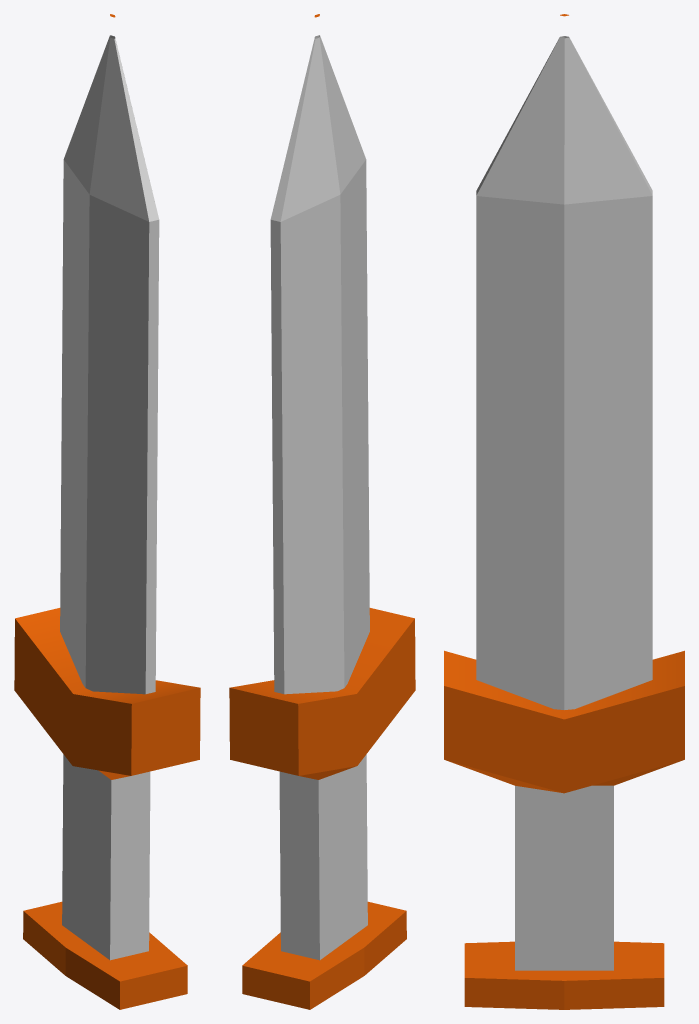
File: sword.fbx
3 views of the same model, side by side, from view 1: azimuth 30°, elevation 25°; view 2: azimuth 150°, elevation 25°; view 3: azimuth 270°, elevation 25° (orthographic). The views are drawn at different scales.
Parts seen in each view (by area): view 1: Cube.002, Cube.001; view 2: Cube.002, Cube.001; view 3: Cube.002, Cube.001.
Boxes of the visible parts, bbox=[...] form: Cube.002: bbox=[60, 35, 159, 694]; Cube.001: bbox=[14, 14, 200, 1009]; Cube.002: bbox=[270, 35, 369, 694]; Cube.001: bbox=[229, 14, 415, 1009]; Cube.002: bbox=[476, 36, 652, 709]; Cube.001: bbox=[444, 14, 684, 1009].
Size of the model in its own units: 32.07 by 364 by 81.3.
